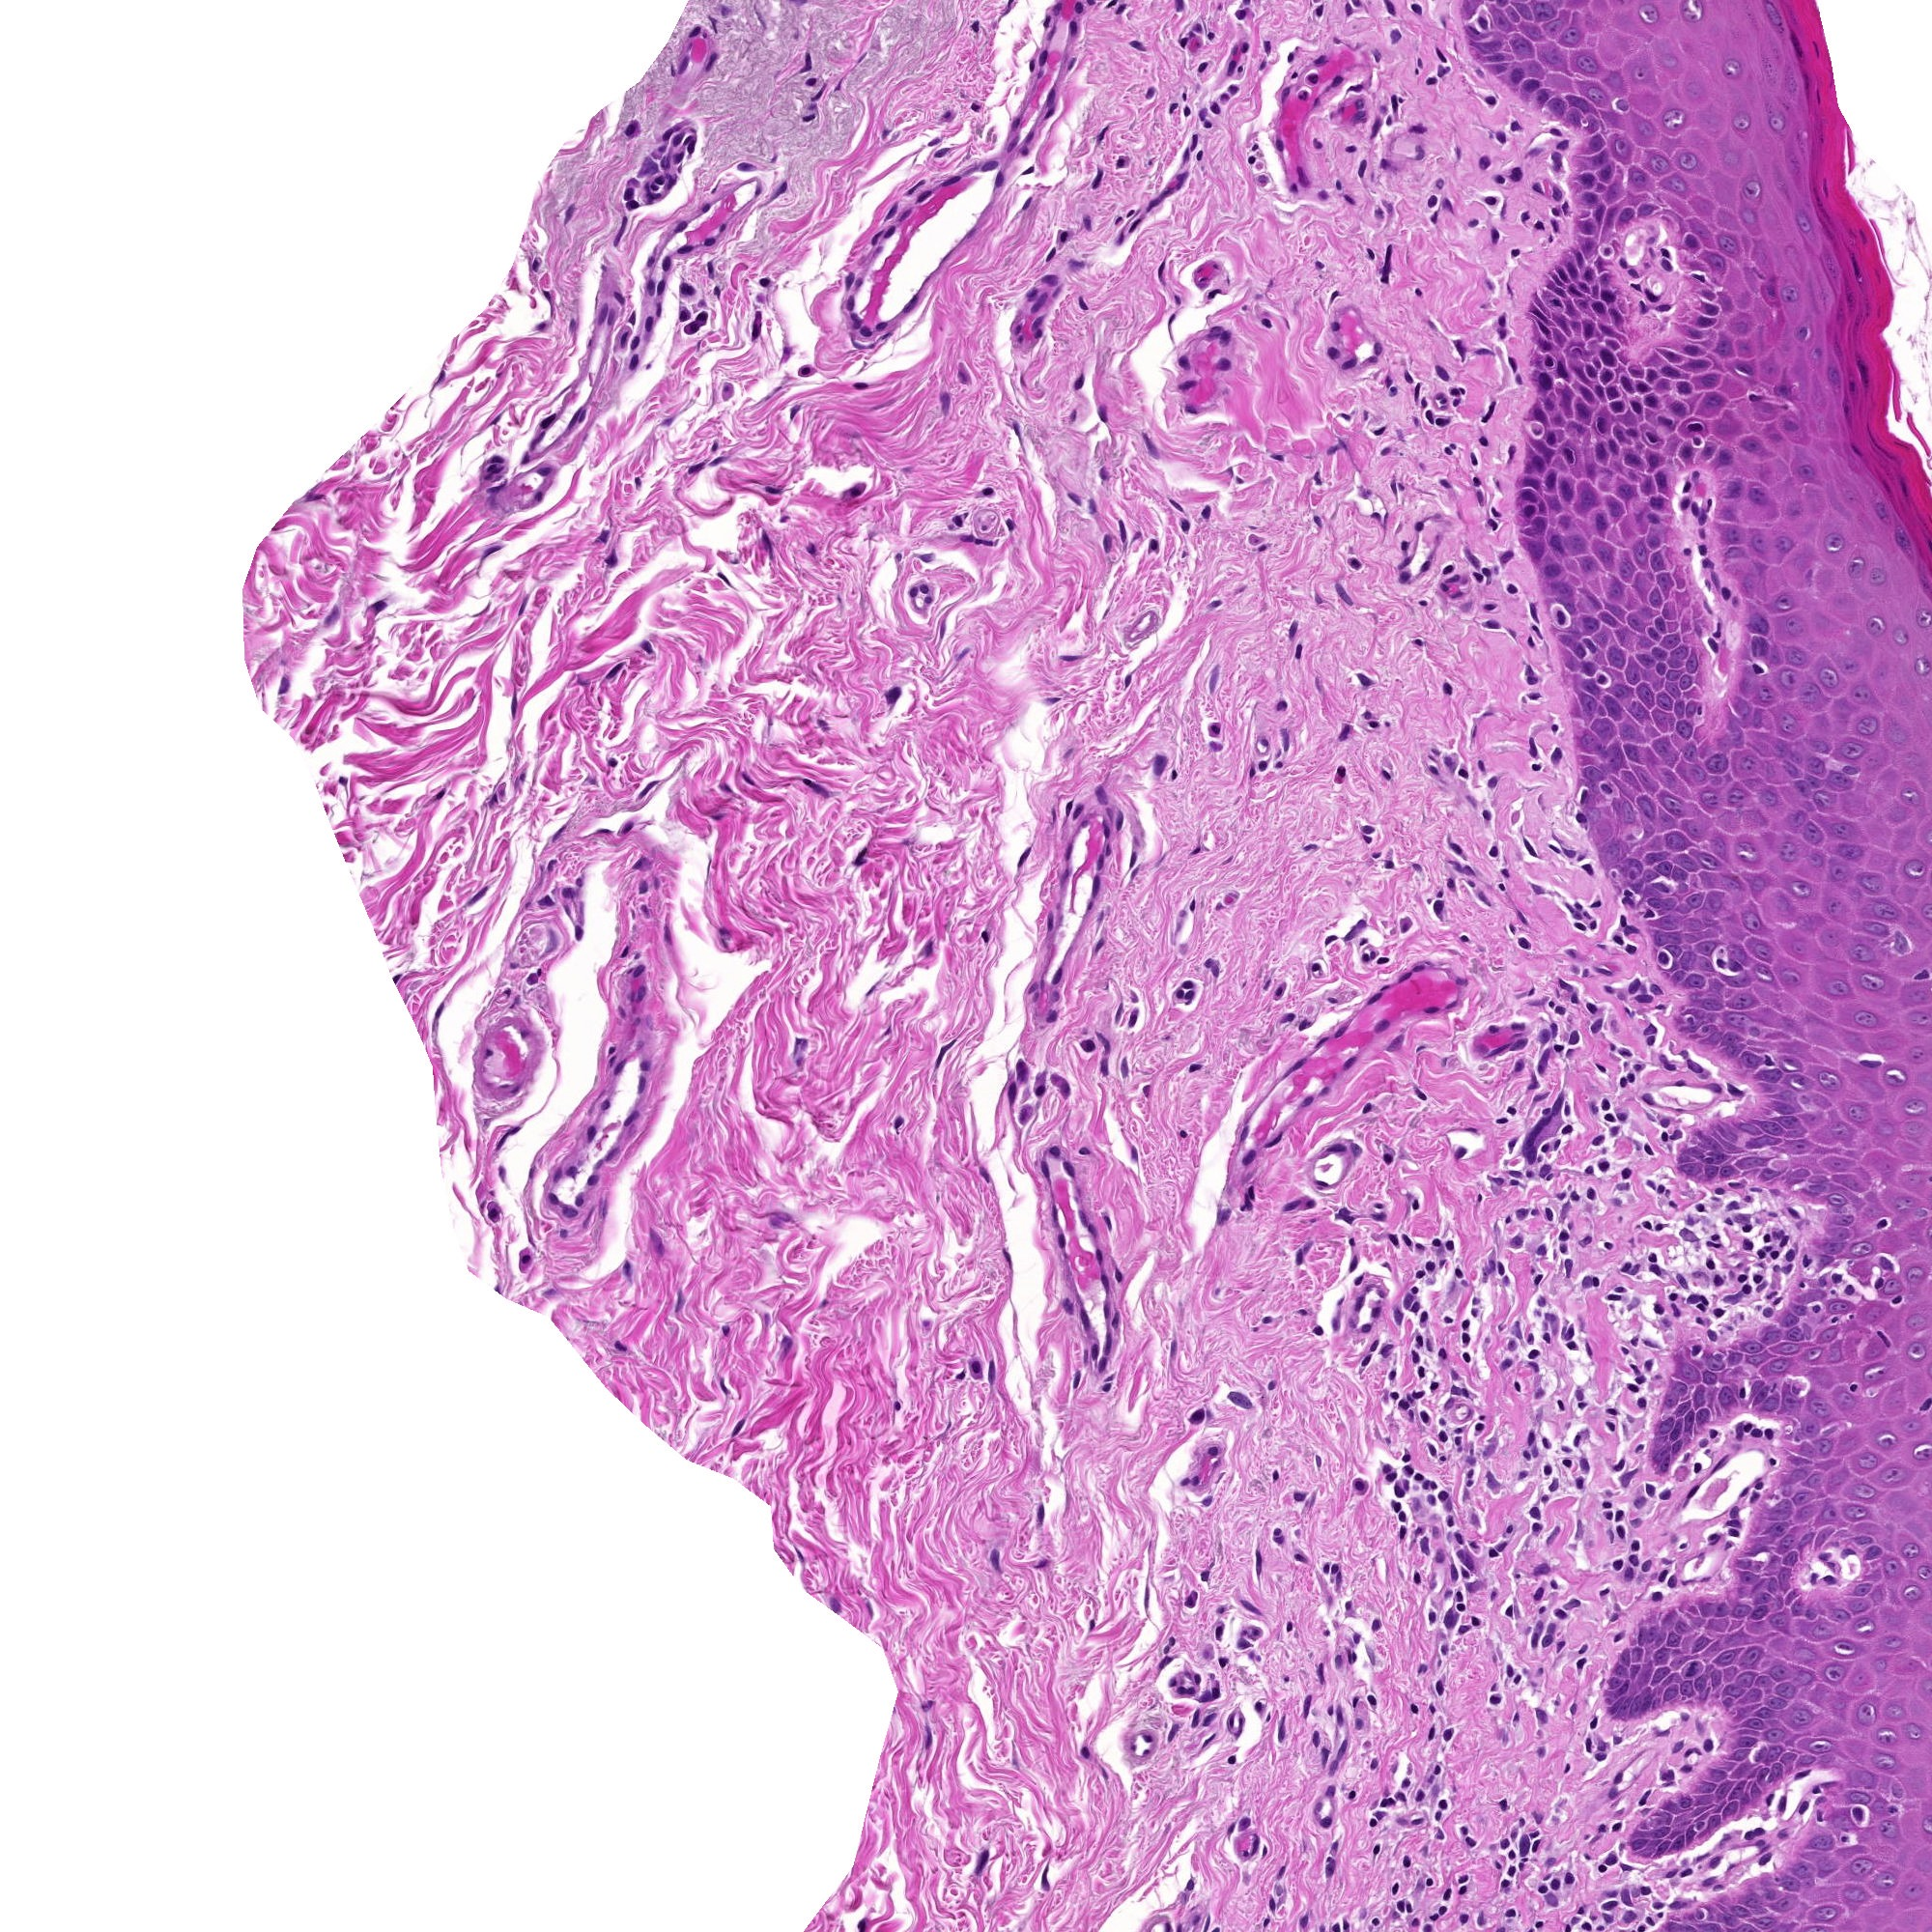epithelial: (1635, 384, 1667, 418), (1668, 412, 1702, 444), (1527, 352, 1559, 386), (1672, 361, 1704, 395), (1679, 1787, 1713, 1819), (267, 669, 299, 701), (389, 692, 421, 724), (633, 150, 665, 182), (695, 44, 727, 76), (929, 384, 961, 416), (536, 925, 568, 957), (508, 1016, 540, 1047), (911, 1723, 943, 1755), (1035, 908, 1067, 939), (1389, 909, 1421, 941), (1591, 341, 1622, 373), (1568, 395, 1599, 426), (1582, 292, 1614, 324), (1615, 442, 1647, 474), (1592, 280, 1624, 311), (1548, 258, 1580, 290), (1637, 444, 1668, 476), (1552, 437, 1583, 469), (1571, 258, 1603, 290), (1780, 27, 1812, 58), (1697, 386, 1729, 418), (1675, 226, 1707, 258), (1559, 274, 1591, 306), (1527, 435, 1559, 467), (1624, 356, 1656, 387), (1525, 395, 1557, 426), (1541, 272, 1573, 304), (1580, 131, 1612, 163), (1633, 364, 1665, 396), (1594, 368, 1626, 400), (1695, 373, 1727, 405), (1739, 382, 1771, 414), (1525, 303, 1557, 334), (1619, 403, 1651, 435), (1522, 292, 1553, 324), (1562, 334, 1594, 366), (1541, 403, 1573, 435), (1755, 274, 1787, 306), (1787, 34, 1819, 65), (1652, 389, 1684, 421), (1601, 359, 1633, 391), (1562, 354, 1594, 386), (1644, 462, 1675, 494), (1589, 260, 1621, 292), (1631, 464, 1663, 495), (1546, 290, 1578, 322), (1704, 290, 1736, 322), (1663, 352, 1695, 384), (1610, 396, 1642, 428), (1888, 464, 1920, 495), (1594, 198, 1626, 230), (1725, 310, 1757, 341), (1566, 386, 1598, 418), (1672, 143, 1704, 175), (1642, 145, 1674, 177), (1624, 55, 1656, 87), (1534, 85, 1566, 117), (1840, 433, 1872, 465), (1831, 395, 1863, 426), (1539, 414, 1571, 446), (1582, 311, 1614, 343), (1624, 449, 1656, 481), (1516, 16, 1548, 48), (1773, 280, 1805, 311), (1513, 495, 1545, 527), (1536, 554, 1568, 586), (1744, 610, 1776, 642), (1640, 487, 1672, 518), (1598, 692, 1629, 724), (1886, 524, 1918, 556), (1612, 881, 1644, 913), (1637, 502, 1668, 534), (1520, 534, 1552, 566), (1599, 573, 1631, 605), (1537, 488, 1569, 520), (1566, 801, 1598, 833), (1571, 685, 1603, 717), (1560, 527, 1592, 559), (1668, 711, 1700, 743), (1605, 674, 1637, 706), (1778, 495, 1810, 527), (1610, 552, 1642, 584), (1619, 605, 1651, 637), (1539, 545, 1571, 577), (1527, 490, 1559, 522), (1546, 573, 1578, 605), (1578, 586, 1610, 617), (1663, 826, 1695, 858), (1661, 858, 1693, 890), (1677, 885, 1709, 916), (1518, 522, 1550, 554), (1624, 534, 1656, 566), (1675, 648, 1707, 679), (1589, 713, 1621, 745), (1674, 736, 1706, 768), (1739, 908, 1771, 939), (1677, 814, 1709, 846), (1697, 886, 1729, 918), (1642, 862, 1674, 893), (1826, 692, 1858, 724), (1663, 637, 1695, 669), (1713, 497, 1744, 529), (1683, 1401, 1714, 1433), (1698, 1141, 1730, 1173), (1739, 1127, 1771, 1159), (1801, 1169, 1833, 1201), (1714, 1026, 1746, 1058), (1674, 1408, 1706, 1440), (1695, 1357, 1727, 1389), (1815, 1231, 1847, 1263), (1720, 964, 1752, 996), (1697, 1131, 1729, 1162), (1897, 1258, 1928, 1290), (1842, 1798, 1874, 1829), (1730, 1727, 1762, 1759), (1805, 1828, 1836, 1859), (1707, 1642, 1739, 1674), (1741, 1534, 1773, 1566), (1698, 1806, 1730, 1838), (1663, 1610, 1695, 1642), (1679, 1661, 1711, 1693), (1633, 1826, 1665, 1858), (1647, 1447, 1679, 1479), (1672, 1672, 1704, 1704), (1741, 1704, 1773, 1736), (1679, 1813, 1711, 1845), (1785, 1702, 1817, 1734), (1644, 1440, 1675, 1472), (1658, 1819, 1690, 1851), (1686, 1677, 1718, 1709), (1840, 1881, 1872, 1913), (1580, 368, 1614, 398), (1683, 366, 1716, 396), (1645, 870, 1675, 904), (294, 715, 324, 747), (640, 166, 671, 198), (653, 165, 683, 196), (667, 48, 697, 80), (711, 373, 741, 405), (479, 456, 510, 488), (757, 464, 787, 495), (632, 165, 662, 196), (842, 464, 872, 495), (625, 847, 656, 878), (708, 918, 740, 948), (479, 782, 510, 814), (771, 1327, 801, 1359), (663, 1286, 695, 1316), (603, 1051, 633, 1083), (642, 1230, 674, 1260), (623, 978, 653, 1010), (587, 1192, 617, 1224), (819, 1589, 849, 1621), (784, 1539, 814, 1571), (1012, 189, 1044, 219), (1085, 778, 1116, 809), (1198, 663, 1228, 695), (1021, 973, 1051, 1005), (1157, 1332, 1189, 1362), (1591, 361, 1622, 391), (1546, 356, 1578, 386), (1529, 364, 1559, 396), (1683, 349, 1713, 380), (1615, 370, 1647, 400), (1679, 412, 1711, 442), (1654, 356, 1686, 386), (1693, 364, 1725, 395), (1663, 393, 1693, 425), (1571, 165, 1603, 195), (1601, 391, 1633, 421), (1573, 356, 1603, 387), (1668, 372, 1698, 403), (1591, 375, 1621, 407), (1651, 405, 1681, 437), (1520, 446, 1550, 478), (1621, 391, 1652, 421), (1536, 421, 1566, 453), (1534, 464, 1566, 494), (1626, 372, 1658, 402), (1637, 423, 1668, 453), (1573, 313, 1603, 345), (1847, 356, 1879, 386), (1672, 435, 1702, 467), (1539, 287, 1569, 318), (1516, 69, 1546, 101), (1767, 375, 1799, 405), (1675, 334, 1707, 364), (1550, 380, 1580, 412), (1736, 428, 1766, 460), (1555, 253, 1587, 283), (1575, 182, 1605, 214), (1529, 331, 1560, 361), (1637, 359, 1668, 389), (1573, 379, 1603, 410), (1622, 163, 1654, 193), (1665, 384, 1697, 414), (1601, 375, 1631, 407), (1546, 308, 1578, 338), (1654, 341, 1686, 372), (1571, 211, 1601, 242), (1583, 143, 1614, 175), (1603, 421, 1633, 453), (1840, 253, 1872, 283), (1614, 418, 1644, 449), (1601, 299, 1631, 331), (1612, 363, 1642, 395), (1612, 198, 1642, 230), (1541, 90, 1573, 120), (1629, 195, 1661, 225), (1559, 103, 1591, 133), (1562, 241, 1592, 272), (1566, 403, 1596, 435), (1585, 196, 1615, 228), (1566, 267, 1598, 297), (1479, 34, 1509, 65), (1527, 81, 1559, 111), (1555, 294, 1585, 326), (1527, 320, 1557, 352), (1693, 435, 1723, 467), (1573, 290, 1605, 320), (1506, 28, 1536, 60), (1534, 361, 1566, 391), (1594, 331, 1624, 363), (1541, 349, 1571, 380), (1534, 384, 1564, 416), (1651, 368, 1681, 400), (1845, 219, 1877, 249), (1571, 230, 1603, 260), (1548, 464, 1580, 494), (1573, 48, 1603, 80), (1580, 301, 1610, 333), (1642, 375, 1672, 407), (1580, 189, 1612, 219), (1711, 412, 1743, 442), (1456, 16, 1488, 46), (1790, 455, 1821, 487), (1566, 364, 1598, 395), (1560, 412, 1592, 442), (1479, 5, 1511, 35), (1790, 65, 1822, 96), (1530, 444, 1562, 474), (1592, 414, 1624, 444), (1677, 318, 1709, 349), (1562, 94, 1592, 126), (1658, 364, 1688, 396), (1605, 131, 1637, 161), (1695, 414, 1727, 444), (1582, 343, 1612, 375), (1555, 391, 1587, 421), (1582, 276, 1614, 306), (1536, 42, 1568, 73), (1642, 396, 1672, 428), (1599, 64, 1629, 96), (1603, 403, 1633, 435), (1674, 421, 1704, 453), (1530, 311, 1560, 343), (1628, 113, 1658, 145), (1576, 173, 1608, 203), (1580, 115, 1610, 147), (1835, 380, 1865, 412), (1734, 173, 1764, 205), (1610, 407, 1640, 439), (1748, 389, 1778, 421), (1587, 391, 1617, 423), (1596, 188, 1626, 219), (1550, 269, 1582, 299), (1729, 333, 1760, 363), (1557, 264, 1589, 294), (1615, 462, 1647, 492), (1844, 347, 1875, 377), (1541, 437, 1573, 467), (1599, 290, 1631, 320), (1587, 180, 1617, 212), (1805, 195, 1836, 225), (1576, 405, 1606, 437), (1720, 464, 1750, 495), (1585, 506, 1615, 538), (1571, 653, 1603, 683), (1539, 527, 1571, 557), (1589, 540, 1621, 570), (1575, 607, 1605, 639), (1599, 640, 1631, 671), (1744, 623, 1775, 655), (1576, 632, 1606, 663), (1884, 927, 1914, 959), (1523, 510, 1555, 540), (1644, 609, 1675, 639), (1716, 520, 1748, 550), (1571, 485, 1603, 515), (1741, 483, 1773, 513), (1573, 548, 1603, 580), (1638, 616, 1668, 648), (1645, 731, 1677, 761), (1550, 506, 1580, 538), (1767, 584, 1798, 616), (1702, 748, 1732, 780), (1568, 633, 1598, 665), (1691, 932, 1723, 962), (1656, 625, 1686, 656), (1644, 639, 1674, 671), (1638, 842, 1668, 874), (1647, 564, 1679, 594), (1629, 791, 1661, 821), (1767, 529, 1798, 561), (1592, 603, 1624, 633), (1640, 584, 1672, 614), (1819, 524, 1851, 554), (1675, 694, 1706, 725), (1640, 648, 1672, 678), (1645, 943, 1677, 973), (1817, 890, 1847, 922), (1744, 633, 1776, 663), (1822, 763, 1854, 793), (1835, 837, 1867, 867), (1801, 748, 1831, 780), (1637, 525, 1668, 556), (1780, 640, 1812, 671), (1867, 495, 1897, 527), (1617, 658, 1647, 690), (1796, 816, 1826, 847), (1612, 717, 1644, 747), (1550, 479, 1582, 510), (1787, 771, 1819, 801), (1741, 527, 1771, 559), (1833, 649, 1863, 681), (1729, 830, 1760, 860), (1771, 835, 1801, 867), (1587, 517, 1617, 548), (1550, 582, 1580, 614), (1594, 736, 1624, 768), (1525, 499, 1555, 531), (1704, 828, 1734, 860), (1782, 801, 1812, 833), (1647, 888, 1677, 920), (1598, 832, 1628, 863), (1851, 865, 1882, 895), (1569, 725, 1599, 757), (1821, 858, 1852, 888), (1831, 757, 1861, 789), (1644, 922, 1674, 954), (1670, 846, 1702, 876), (1658, 929, 1688, 961), (1635, 876, 1665, 908), (1573, 768, 1603, 800), (1750, 936, 1780, 968), (1720, 715, 1750, 747), (1665, 692, 1697, 722), (1695, 846, 1727, 876), (1794, 678, 1826, 708), (1851, 711, 1882, 741), (1805, 729, 1835, 761), (1767, 732, 1798, 764), (1568, 490, 1598, 522), (1872, 897, 1904, 927), (1787, 870, 1817, 902), (1651, 600, 1681, 632), (1739, 702, 1771, 732), (1633, 623, 1663, 655), (1555, 605, 1587, 635), (1626, 504, 1658, 534), (1794, 908, 1826, 938), (1580, 545, 1612, 575), (1624, 570, 1654, 602), (1854, 1047, 1884, 1079), (1755, 1058, 1785, 1090), (1651, 1412, 1683, 1442), (1725, 1378, 1757, 1408), (1744, 1376, 1776, 1407), (1658, 1415, 1690, 1445), (1670, 1150, 1702, 1180), (1865, 1267, 1895, 1299), (1711, 1380, 1741, 1412), (1679, 964, 1709, 996), (1709, 1157, 1741, 1187), (1683, 1382, 1714, 1412), (1752, 1159, 1783, 1189), (1674, 1139, 1704, 1171), (1736, 1044, 1766, 1076), (1675, 1010, 1707, 1040), (1670, 1398, 1702, 1428), (1736, 1332, 1767, 1362), (1780, 1311, 1810, 1343), (1718, 1341, 1748, 1373), (1757, 1111, 1787, 1143), (1787, 1293, 1817, 1325), (1826, 1290, 1858, 1320), (1810, 1244, 1842, 1274), (1730, 1146, 1760, 1178), (1688, 1141, 1720, 1171), (1767, 1093, 1799, 1123), (1688, 1123, 1718, 1155), (1852, 1001, 1884, 1031), (1842, 1097, 1872, 1129), (1647, 1421, 1679, 1451), (1775, 1104, 1805, 1136), (1822, 973, 1854, 1003), (1785, 1063, 1815, 1095), (1801, 1277, 1833, 1307), (1743, 1054, 1775, 1085), (1681, 1138, 1713, 1168), (1697, 1021, 1727, 1053), (1888, 1185, 1920, 1215), (1812, 1318, 1842, 1350), (1663, 1828, 1695, 1858), (1668, 1787, 1700, 1817), (1645, 1833, 1677, 1863), (1629, 1688, 1661, 1718), (1748, 1739, 1778, 1771), (1622, 1826, 1652, 1858), (1605, 1672, 1637, 1702), (1603, 1691, 1635, 1721), (1762, 1513, 1792, 1545), (1644, 1817, 1675, 1847), (1654, 1790, 1686, 1821), (1748, 1760, 1780, 1790), (1713, 1794, 1744, 1824), (1651, 1805, 1681, 1836), (1702, 1759, 1734, 1789), (1603, 1656, 1633, 1688), (1773, 1867, 1803, 1898), (1608, 1649, 1640, 1679), (1789, 1596, 1821, 1626), (1730, 1560, 1762, 1591), (1652, 1603, 1684, 1633), (1706, 1775, 1737, 1805), (1691, 1592, 1721, 1624), (1645, 1658, 1675, 1690), (1762, 1656, 1792, 1688), (1656, 1677, 1686, 1709), (1845, 1575, 1877, 1605), (1729, 1782, 1759, 1813), (1813, 1497, 1844, 1529), (1693, 1773, 1723, 1805), (1681, 1900, 1713, 1930), (1727, 1895, 1757, 1927), (1706, 1798, 1736, 1829), (1739, 1775, 1771, 1805), (1714, 1681, 1744, 1713), (1831, 1629, 1861, 1661), (1783, 1483, 1815, 1513), (1698, 1663, 1730, 1693), (1875, 1794, 1907, 1824), (1725, 1594, 1755, 1626), (1757, 1879, 1787, 1911), (1617, 1638, 1647, 1670), (1877, 1552, 1907, 1583), (1874, 1813, 1904, 1845), (1897, 1582, 1928, 1612), (1769, 1675, 1799, 1707), (1840, 1497, 1872, 1527), (1782, 1589, 1812, 1621), (1679, 1645, 1709, 1677), (1762, 1605, 1792, 1637), (1767, 1888, 1799, 1918), (1729, 1550, 1759, 1582), (1718, 1780, 1748, 1812), (1872, 1750, 1902, 1782), (1599, 1667, 1629, 1698), (1810, 1852, 1840, 1884), (1773, 1741, 1803, 1773), (317, 602, 347, 632), (649, 147, 679, 177), (938, 165, 968, 195), (589, 299, 619, 329), (701, 800, 731, 830), (566, 667, 596, 697), (497, 1074, 527, 1104), (763, 1203, 793, 1233), (801, 1106, 832, 1136), (621, 1005, 651, 1035), (855, 1592, 885, 1622), (1054, 48, 1085, 78), (1049, 860, 1079, 890), (1585, 409, 1615, 439), (1587, 437, 1617, 467), (1709, 442, 1739, 472), (1534, 347, 1564, 377), (1730, 352, 1760, 382), (1500, 58, 1530, 88), (1591, 157, 1621, 188), (1688, 306, 1718, 336), (1695, 295, 1725, 326), (1709, 331, 1739, 361), (1598, 432, 1628, 462), (1560, 87, 1591, 117), (1591, 315, 1621, 345), (1836, 372, 1867, 402), (1575, 455, 1605, 485), (1787, 317, 1817, 347), (1700, 246, 1730, 276), (1545, 322, 1575, 352), (1775, 410, 1805, 441), (1516, 464, 1546, 494), (1596, 177, 1626, 207), (1612, 384, 1642, 414), (1559, 19, 1589, 50), (1667, 336, 1697, 366), (1507, 64, 1537, 94), (1819, 359, 1849, 389), (1463, 28, 1493, 58), (1566, 285, 1596, 315), (1541, 389, 1571, 419), (1546, 281, 1576, 311), (1803, 182, 1833, 212), (1851, 364, 1881, 395), (1559, 310, 1589, 340), (1713, 228, 1743, 258), (1693, 281, 1723, 311), (1614, 354, 1644, 384), (1812, 207, 1842, 237), (1532, 455, 1562, 485), (1656, 402, 1686, 432), (1598, 103, 1628, 133), (1759, 421, 1789, 451), (1484, 51, 1514, 81), (1513, 481, 1543, 511), (1741, 655, 1771, 685), (1599, 492, 1629, 522), (1580, 669, 1610, 699), (1649, 853, 1679, 883), (1642, 545, 1672, 575), (1631, 644, 1661, 674), (1615, 736, 1645, 766), (1840, 552, 1870, 582), (1592, 773, 1622, 803), (1569, 782, 1599, 812), (1695, 786, 1725, 816), (1617, 876, 1647, 906), (1601, 743, 1631, 773), (1576, 759, 1606, 789), (1743, 867, 1773, 897), (1720, 782, 1750, 812), (1555, 623, 1585, 653), (1624, 697, 1654, 727), (1718, 865, 1748, 895), (1631, 679, 1661, 709), (1559, 630, 1589, 660), (1615, 855, 1645, 885), (1858, 612, 1888, 642), (1845, 678, 1875, 708), (1863, 561, 1893, 591), (1721, 941, 1752, 971), (1608, 619, 1638, 649), (1773, 665, 1803, 695), (1826, 814, 1856, 844), (1658, 793, 1688, 823), (1750, 679, 1780, 709), (1605, 791, 1635, 821), (1580, 656, 1610, 686), (1868, 1323, 1898, 1353), (1872, 1249, 1902, 1279), (1752, 1046, 1782, 1076), (1729, 987, 1759, 1017), (1695, 1157, 1725, 1187), (1881, 1065, 1911, 1095), (1776, 1304, 1806, 1334), (1829, 1205, 1859, 1235), (1697, 989, 1727, 1019), (1782, 1161, 1812, 1191), (1665, 1373, 1695, 1403), (1698, 1346, 1729, 1376), (1741, 1146, 1771, 1177), (1792, 1414, 1822, 1444), (1730, 1111, 1760, 1141), (1815, 1069, 1845, 1099), (1783, 1129, 1813, 1159), (1654, 1385, 1684, 1415), (1900, 1332, 1930, 1362), (1713, 1118, 1743, 1148), (1667, 962, 1697, 993), (1675, 1654, 1706, 1684), (1744, 1596, 1775, 1626), (1858, 1537, 1888, 1568), (1674, 1821, 1704, 1851), (1629, 1621, 1660, 1651), (1706, 1594, 1736, 1624), (1645, 1640, 1675, 1670), (1748, 1585, 1778, 1615), (1737, 1640, 1767, 1670), (1821, 1656, 1851, 1686), (1686, 1668, 1716, 1698), (1725, 1775, 1755, 1805), (1617, 1690, 1647, 1720), (1766, 1497, 1796, 1527), (1690, 1812, 1720, 1842), (1759, 1759, 1789, 1789), (1849, 1697, 1879, 1727), (1736, 1884, 1766, 1914), (1727, 1755, 1757, 1785), (1785, 1854, 1815, 1884), (1658, 1624, 1688, 1654), (1824, 1599, 1854, 1629), (1881, 1458, 1911, 1488), (1603, 1683, 1633, 1713), (1872, 1725, 1902, 1755), (1842, 1782, 1872, 1812), (1727, 1736, 1757, 1766), (1897, 1537, 1927, 1568), (1849, 1605, 1879, 1635), (1760, 1504, 1790, 1534), (1748, 1698, 1778, 1729), (1847, 1525, 1877, 1555), (1872, 1863, 1902, 1893), (653, 138, 685, 166), (1527, 410, 1555, 442), (1755, 780, 1783, 812), (1886, 621, 1918, 649), (1748, 1387, 1780, 1415), (1776, 962, 1805, 994), (1776, 1541, 1805, 1573), (1713, 1902, 1744, 1930), (663, 142, 692, 172), (506, 763, 534, 793), (1003, 317, 1033, 345), (1481, 44, 1511, 73), (1619, 433, 1647, 464), (1573, 274, 1603, 303), (1640, 886, 1668, 916), (1612, 479, 1642, 508), (1755, 1320, 1783, 1350), (1776, 1380, 1805, 1410), (1684, 1629, 1714, 1658)
fibroblast and endothelial: (586, 520, 619, 552), (1196, 278, 1230, 310), (1177, 18, 1210, 50), (1405, 1353, 1437, 1387), (1353, 1272, 1387, 1304), (1522, 1023, 1555, 1054), (1674, 1300, 1707, 1332), (1447, 1813, 1479, 1847), (1500, 1851, 1534, 1882), (423, 994, 455, 1026), (740, 313, 771, 345), (616, 188, 648, 219), (649, 248, 681, 280), (849, 317, 881, 349), (658, 120, 690, 152), (844, 370, 876, 402), (667, 218, 699, 249), (699, 433, 731, 465), (692, 228, 724, 260), (669, 134, 701, 166), (862, 221, 893, 253), (701, 442, 732, 474), (931, 99, 962, 131), (637, 274, 669, 306), (653, 297, 685, 329), (540, 403, 571, 435), (616, 336, 648, 368), (681, 317, 713, 349), (610, 303, 642, 334), (598, 814, 630, 846), (632, 771, 663, 803), (628, 870, 660, 902), (911, 932, 943, 964), (628, 885, 660, 916), (909, 541, 941, 573), (709, 771, 741, 803), (506, 591, 538, 623), (488, 1122, 520, 1154), (614, 1104, 646, 1136), (518, 961, 550, 993), (709, 1315, 741, 1346), (589, 1088, 621, 1120), (550, 1207, 582, 1238), (1047, 219, 1079, 251), (1208, 349, 1240, 380), (1185, 50, 1217, 81), (1169, 359, 1201, 391), (1175, 393, 1207, 425), (1067, 288, 1099, 320), (1164, 163, 1196, 195), (1304, 44, 1336, 76), (1168, 345, 1200, 377), (1419, 202, 1451, 234), (1161, 92, 1192, 124), (1251, 306, 1283, 338), (1320, 310, 1352, 341), (1415, 184, 1447, 216), (1263, 129, 1295, 161), (1359, 338, 1391, 370), (1185, 96, 1217, 127), (1343, 97, 1375, 129), (1288, 80, 1320, 111), (1171, 380, 1203, 412), (1014, 120, 1046, 152), (1327, 65, 1359, 97), (1008, 133, 1040, 165), (1201, 317, 1233, 349), (1348, 343, 1380, 375), (1368, 195, 1399, 226), (1016, 48, 1047, 80), (1023, 297, 1054, 329), (1000, 412, 1031, 444), (1231, 50, 1263, 81), (1355, 242, 1387, 274), (1322, 432, 1353, 464), (1031, 30, 1063, 62), (1210, 78, 1242, 110), (1261, 34, 1293, 65), (1200, 50, 1231, 81), (1361, 39, 1392, 71), (1341, 143, 1373, 175), (1161, 285, 1192, 317), (1322, 922, 1353, 954), (1007, 840, 1039, 872), (1138, 529, 1169, 561), (1389, 531, 1421, 563), (1339, 547, 1371, 579), (1329, 717, 1361, 748), (1421, 890, 1453, 922), (1327, 579, 1359, 610), (1343, 911, 1375, 943), (1247, 738, 1279, 770), (1277, 617, 1309, 649), (1373, 847, 1405, 879), (1085, 846, 1116, 878), (1361, 499, 1392, 531), (1058, 481, 1090, 513), (1053, 835, 1085, 867), (1263, 748, 1295, 780), (1247, 725, 1279, 757), (1100, 520, 1132, 552), (1065, 800, 1097, 832), (1072, 1030, 1104, 1062), (1023, 1074, 1054, 1106), (1410, 1253, 1442, 1284), (975, 1355, 1007, 1387), (1371, 1141, 1403, 1173), (1293, 1187, 1325, 1219), (1224, 1384, 1256, 1415), (1382, 1299, 1414, 1330), (1233, 1141, 1265, 1173), (1062, 1362, 1093, 1394), (1332, 1132, 1364, 1164), (1288, 1008, 1320, 1040), (1083, 1332, 1115, 1364), (1403, 1309, 1435, 1341), (1364, 1200, 1396, 1231), (1290, 1085, 1322, 1116), (1306, 1024, 1338, 1056), (1392, 1300, 1424, 1332), (1380, 1026, 1412, 1058), (1118, 1138, 1150, 1169), (1366, 977, 1398, 1008), (1014, 1062, 1046, 1093), (1403, 1461, 1435, 1493), (1345, 1468, 1376, 1500), (1242, 1829, 1274, 1861), (1024, 1497, 1056, 1529), (1387, 1516, 1419, 1548), (1361, 1833, 1392, 1865), (1415, 1601, 1447, 1633), (1233, 1835, 1265, 1867), (1332, 1591, 1364, 1622), (1415, 1704, 1447, 1736), (1076, 1608, 1108, 1640), (1191, 1484, 1223, 1516), (1214, 1812, 1246, 1844), (1178, 1691, 1210, 1723), (1415, 1534, 1447, 1566), (1339, 1622, 1371, 1654), (1205, 1592, 1237, 1624), (1251, 1898, 1283, 1930), (1185, 1684, 1217, 1716), (1116, 1730, 1148, 1762), (1131, 1734, 1162, 1766), (1198, 1437, 1230, 1468), (1357, 1817, 1389, 1849), (1368, 1750, 1399, 1782), (1635, 280, 1667, 311), (1440, 377, 1472, 409), (1474, 85, 1506, 117), (1444, 331, 1476, 363), (1484, 120, 1516, 152), (1644, 288, 1675, 320), (1474, 393, 1506, 425), (1463, 433, 1495, 465), (1514, 833, 1546, 865), (1507, 927, 1539, 959), (1444, 754, 1476, 786), (1490, 540, 1522, 571), (1571, 853, 1603, 885), (1539, 720, 1571, 752), (1470, 800, 1502, 832), (1661, 488, 1693, 520), (1486, 869, 1518, 901), (1522, 874, 1553, 906), (1557, 938, 1589, 970), (1518, 607, 1550, 639), (1445, 582, 1477, 614), (1686, 1288, 1718, 1320), (1619, 970, 1651, 1001), (1592, 1100, 1624, 1132), (1483, 1253, 1514, 1284), (1610, 1157, 1642, 1189), (1525, 1233, 1557, 1265), (1624, 1355, 1656, 1387), (1500, 1224, 1532, 1256), (1660, 1295, 1691, 1327), (1444, 1138, 1476, 1169), (1522, 1115, 1553, 1146), (1530, 1019, 1562, 1051), (1704, 1175, 1736, 1207), (1500, 1369, 1532, 1401), (1698, 1224, 1730, 1256), (1575, 1224, 1606, 1256), (1442, 1419, 1474, 1451), (1525, 1136, 1557, 1168), (1527, 1108, 1559, 1139), (1440, 1366, 1472, 1398), (1550, 1100, 1582, 1132), (1580, 1090, 1612, 1122), (1534, 1307, 1566, 1339), (1658, 1118, 1690, 1150), (1674, 1047, 1706, 1079), (1684, 1304, 1716, 1336), (1725, 1184, 1757, 1215), (1619, 1054, 1651, 1086), (1527, 1030, 1559, 1062), (1757, 1226, 1789, 1258), (1548, 1192, 1580, 1224), (1493, 1201, 1525, 1233), (1624, 1325, 1656, 1357), (1679, 1261, 1711, 1293), (1520, 1053, 1552, 1085), (1552, 1231, 1583, 1263), (1440, 1306, 1472, 1338), (1603, 1274, 1635, 1306), (1675, 1476, 1707, 1507), (1495, 1856, 1527, 1888), (1530, 1872, 1562, 1904), (1530, 1624, 1562, 1656), (1481, 1534, 1513, 1566), (1445, 1872, 1477, 1904), (1629, 1874, 1661, 1905), (1495, 1897, 1527, 1928), (1619, 1529, 1651, 1560), (1578, 1706, 1610, 1737), (1520, 1511, 1552, 1543), (1603, 1499, 1635, 1530), (1571, 1727, 1603, 1759), (1447, 1612, 1479, 1644), (1453, 1824, 1484, 1856), (1787, 1790, 1819, 1822), (1444, 1522, 1476, 1553), (1748, 1836, 1780, 1868), (1456, 1571, 1488, 1603), (1555, 1591, 1587, 1622), (1525, 1700, 1557, 1732), (1447, 1555, 1479, 1587), (1525, 1560, 1557, 1592), (1614, 1900, 1645, 1932), (1674, 1736, 1706, 1767), (1534, 1614, 1566, 1645), (1504, 1821, 1536, 1852), (1534, 1881, 1566, 1913), (1635, 1898, 1667, 1930), (1626, 1479, 1658, 1511), (1493, 1513, 1525, 1545), (1610, 1865, 1642, 1897), (1513, 1438, 1545, 1470), (1654, 1859, 1686, 1891), (1587, 1727, 1619, 1759), (1557, 1693, 1589, 1725), (1465, 1534, 1497, 1566), (1550, 1752, 1582, 1783), (1693, 1865, 1725, 1897), (1612, 1545, 1644, 1576), (1548, 1465, 1580, 1497), (1621, 1506, 1652, 1537), (1541, 1610, 1573, 1642), (1525, 1488, 1557, 1520), (1578, 1716, 1610, 1748), (1603, 1897, 1635, 1928), (862, 313, 895, 343), (619, 175, 653, 205), (1410, 387, 1440, 421), (1092, 1276, 1122, 1309), (1054, 1134, 1088, 1164), (1622, 1364, 1652, 1398), (1681, 1054, 1714, 1085), (1744, 1269, 1778, 1299), (1612, 1881, 1642, 1914), (423, 780, 455, 810), (462, 879, 492, 911), (327, 764, 357, 796), (380, 962, 412, 993), (529, 407, 561, 437), (667, 299, 699, 329), (671, 126, 702, 156), (646, 271, 678, 301), (676, 306, 706, 338), (612, 179, 644, 209), (617, 347, 649, 377), (671, 234, 701, 265), (748, 267, 780, 297), (764, 173, 796, 203), (925, 138, 957, 168), (633, 182, 665, 212), (897, 287, 927, 318), (520, 425, 550, 456), (835, 287, 865, 318), (789, 356, 821, 386), (561, 402, 591, 433), (679, 16, 711, 46), (616, 113, 648, 143), (621, 304, 653, 334), (842, 308, 874, 338), (908, 177, 938, 209), (796, 65, 826, 97), (729, 150, 759, 182), (511, 442, 541, 474), (518, 249, 550, 280), (778, 396, 810, 426), (603, 281, 635, 311), (525, 310, 556, 341), (702, 274, 732, 306), (801, 80, 832, 111), (690, 191, 720, 223), (479, 446, 511, 476), (635, 246, 667, 276), (794, 101, 824, 133), (531, 455, 561, 487), (897, 173, 927, 205), (922, 129, 952, 161), (614, 311, 644, 343), (518, 435, 548, 467), (697, 7, 729, 37), (741, 175, 773, 205), (525, 414, 556, 446), (741, 306, 773, 336), (556, 410, 586, 442), (648, 258, 679, 288), (708, 212, 738, 244), (651, 405, 683, 435), (603, 221, 633, 253), (870, 117, 901, 149), (878, 679, 908, 711), (901, 575, 932, 605), (794, 768, 824, 800), (594, 545, 626, 575), (844, 842, 876, 872), (612, 812, 642, 844), (531, 886, 563, 916), (554, 876, 584, 908), (708, 561, 738, 593), (596, 747, 626, 778), (911, 575, 941, 607), (796, 534, 828, 564), (731, 763, 763, 793), (479, 533, 510, 564), (541, 817, 573, 847), (653, 918, 683, 950), (619, 938, 649, 970), (770, 502, 800, 534), (557, 1192, 587, 1224), (497, 1115, 527, 1146), (556, 1155, 587, 1185), (538, 1184, 570, 1214), (577, 1164, 607, 1196), (603, 1332, 635, 1362), (563, 1185, 593, 1217), (628, 1054, 660, 1085), (626, 1067, 656, 1099), (479, 1196, 510, 1228), (575, 1116, 605, 1148), (547, 1217, 579, 1247), (784, 1028, 816, 1058), (543, 1159, 575, 1189), (881, 1389, 911, 1421), (492, 978, 524, 1008), (934, 1030, 964, 1062), (708, 1371, 740, 1401), (596, 1035, 626, 1067), (855, 975, 886, 1005), (943, 1359, 973, 1391), (487, 1157, 517, 1189), (547, 1191, 577, 1223), (1371, 246, 1403, 276), (1369, 257, 1401, 287), (1339, 73, 1371, 103), (1056, 12, 1088, 42), (1380, 87, 1412, 117), (1035, 237, 1065, 269), (1210, 320, 1240, 352), (1346, 152, 1378, 182), (1215, 50, 1246, 81), (1063, 366, 1095, 396), (1299, 62, 1329, 94), (1228, 30, 1258, 62), (1086, 119, 1116, 150), (984, 163, 1014, 195), (971, 150, 1003, 180), (1392, 363, 1424, 393), (1026, 41, 1058, 71), (1215, 69, 1247, 99), (1401, 113, 1433, 143), (1138, 188, 1169, 218), (1035, 264, 1065, 295), (1180, 140, 1212, 170), (1173, 96, 1203, 127), (1187, 18, 1219, 48), (1364, 416, 1394, 448), (1253, 30, 1284, 60), (1152, 175, 1182, 207), (1021, 281, 1051, 313), (1380, 19, 1410, 51), (1088, 398, 1118, 430), (1191, 106, 1221, 138), (1031, 5, 1062, 37), (1035, 81, 1065, 113), (1371, 149, 1401, 180), (1373, 235, 1403, 267), (1263, 441, 1293, 472), (1286, 161, 1316, 193), (1014, 154, 1044, 186), (1001, 108, 1033, 138), (1276, 41, 1307, 71), (1134, 76, 1164, 108), (1371, 106, 1401, 138), (1318, 280, 1350, 310), (1106, 221, 1136, 253), (1033, 96, 1065, 126), (1171, 138, 1201, 170), (1237, 32, 1269, 62), (1033, 249, 1063, 281), (1116, 200, 1148, 230), (1403, 276, 1433, 308), (1343, 87, 1373, 119), (1279, 58, 1309, 90), (980, 152, 1010, 184), (1269, 78, 1300, 108), (1246, 165, 1277, 195), (1109, 212, 1139, 244), (1323, 170, 1353, 202), (1088, 458, 1118, 490), (1338, 400, 1369, 430), (1184, 27, 1215, 57), (1169, 149, 1200, 180), (1302, 129, 1332, 161), (1185, 267, 1215, 299), (1104, 203, 1136, 234), (1307, 179, 1339, 209), (1155, 303, 1185, 334), (1295, 71, 1325, 103), (1422, 39, 1453, 71), (1146, 182, 1178, 212), (1159, 170, 1191, 200), (1058, 400, 1088, 432), (1336, 96, 1366, 127), (1185, 37, 1215, 69), (1373, 96, 1405, 126), (1247, 44, 1279, 74), (1405, 382, 1437, 412), (1369, 435, 1401, 465), (1422, 356, 1453, 387), (1352, 941, 1382, 973), (1079, 869, 1111, 899), (966, 525, 998, 556), (1410, 550, 1442, 580), (1058, 793, 1090, 823), (1191, 497, 1221, 529), (1200, 713, 1231, 743), (1283, 635, 1315, 665), (1389, 554, 1419, 586), (1054, 642, 1085, 674), (1366, 846, 1398, 876), (1419, 754, 1449, 786), (1359, 708, 1391, 738), (1108, 513, 1138, 545), (1267, 688, 1297, 720), (1159, 759, 1191, 789), (1391, 545, 1422, 575), (1090, 527, 1122, 557), (1102, 805, 1132, 837), (1077, 490, 1108, 522), (1352, 701, 1384, 731), (1302, 504, 1332, 536), (1085, 929, 1115, 961), (1237, 757, 1269, 787), (1090, 816, 1122, 846), (1200, 589, 1231, 619), (1111, 665, 1143, 695), (1161, 488, 1191, 520), (1348, 927, 1378, 959), (1088, 839, 1120, 869), (1293, 832, 1325, 862), (1115, 520, 1146, 550), (1246, 529, 1276, 561), (1398, 559, 1428, 591), (959, 522, 989, 554), (1194, 943, 1226, 973), (1074, 890, 1106, 920), (1070, 487, 1102, 517), (1300, 941, 1330, 973), (1391, 1387, 1421, 1419), (1387, 1224, 1419, 1254), (961, 1350, 991, 1382), (996, 1074, 1026, 1106), (1359, 982, 1391, 1012), (1007, 1053, 1037, 1085), (1171, 980, 1203, 1010), (1182, 1401, 1214, 1431), (1322, 1132, 1352, 1164), (1028, 1154, 1060, 1184), (1407, 1325, 1438, 1355), (1265, 975, 1295, 1007), (1384, 1382, 1414, 1414), (1330, 1200, 1361, 1231), (1102, 1261, 1134, 1292), (1088, 1051, 1118, 1083), (1054, 1152, 1085, 1184), (1178, 1053, 1210, 1083), (1090, 1263, 1120, 1295), (1049, 1072, 1079, 1104), (1274, 1001, 1306, 1031), (1258, 1125, 1290, 1155), (1279, 1007, 1311, 1037), (1035, 1001, 1067, 1031), (1338, 1249, 1369, 1279), (1415, 994, 1447, 1024), (1350, 1311, 1380, 1343), (1109, 1000, 1139, 1031), (1378, 1359, 1408, 1391), (1276, 1191, 1307, 1221), (1366, 1332, 1398, 1362), (1398, 1288, 1428, 1320), (1359, 1297, 1389, 1329), (1086, 1348, 1118, 1378), (1042, 961, 1072, 993), (1102, 1053, 1132, 1085), (1168, 1118, 1198, 1150), (1284, 1240, 1315, 1272), (1010, 1099, 1042, 1129), (1334, 1046, 1364, 1077), (1399, 1189, 1430, 1221), (1302, 1315, 1332, 1346), (1092, 1205, 1122, 1237), (1231, 1187, 1261, 1219), (1306, 1169, 1338, 1200), (1389, 961, 1421, 991), (1283, 1049, 1315, 1079), (1090, 1028, 1122, 1058), (1072, 1207, 1102, 1238), (1343, 1263, 1373, 1295), (1085, 1240, 1116, 1270), (1207, 1200, 1237, 1231), (1251, 1304, 1281, 1336), (1378, 1373, 1410, 1403), (1403, 1258, 1435, 1288), (1320, 1307, 1350, 1339), (1099, 1304, 1129, 1336), (1330, 1309, 1362, 1339), (1256, 971, 1288, 1001), (1256, 1369, 1286, 1401), (1392, 1396, 1424, 1426), (1003, 1062, 1033, 1093), (1359, 1329, 1389, 1361), (1338, 1224, 1368, 1256), (1090, 1341, 1122, 1371), (1039, 980, 1070, 1010), (1228, 1116, 1258, 1148), (1039, 1198, 1069, 1230), (1076, 1339, 1108, 1369), (1077, 1214, 1109, 1244), (1131, 1074, 1161, 1106), (1063, 1295, 1093, 1327), (1401, 1269, 1431, 1300), (1414, 1330, 1444, 1362), (1092, 1359, 1122, 1391), (1042, 1065, 1074, 1095), (1410, 1230, 1440, 1261), (1030, 1065, 1062, 1095), (1341, 1299, 1371, 1330), (1368, 1295, 1399, 1325), (1373, 1458, 1405, 1488), (1382, 1493, 1414, 1523), (1180, 1663, 1210, 1695), (1414, 1468, 1444, 1500), (1203, 1615, 1235, 1645), (1194, 1679, 1226, 1709), (1399, 1782, 1431, 1812), (1318, 1553, 1350, 1583), (1392, 1454, 1424, 1484), (968, 1844, 998, 1875), (1242, 1545, 1274, 1575), (1359, 1805, 1391, 1835), (1226, 1808, 1256, 1840), (1336, 1640, 1366, 1672), (1357, 1684, 1387, 1716), (1215, 1744, 1246, 1776), (1030, 1865, 1062, 1895), (1069, 1737, 1100, 1767), (1311, 1805, 1341, 1836), (1389, 1890, 1419, 1921), (1398, 1693, 1430, 1723), (1185, 1704, 1215, 1736), (1131, 1723, 1162, 1753), (1189, 1560, 1221, 1591), (1338, 1778, 1368, 1810), (1237, 1619, 1269, 1649), (1309, 1737, 1339, 1769), (1265, 1716, 1297, 1746), (1401, 1562, 1433, 1592), (1161, 1667, 1191, 1698), (1315, 1852, 1346, 1882), (1387, 1500, 1417, 1532), (1217, 1707, 1247, 1739), (1415, 1718, 1447, 1748), (1408, 1695, 1440, 1725), (1412, 1867, 1444, 1897), (1207, 1645, 1238, 1675), (1157, 1718, 1187, 1750), (1263, 1520, 1293, 1552), (1226, 1628, 1258, 1658), (1387, 1465, 1417, 1497), (1315, 1776, 1346, 1806), (1391, 1442, 1422, 1472), (1299, 1723, 1330, 1753), (1194, 1702, 1226, 1732), (1401, 1806, 1433, 1836), (1274, 1612, 1306, 1642), (1154, 1631, 1185, 1661), (1345, 1707, 1376, 1737), (1419, 1900, 1451, 1930), (1240, 1605, 1270, 1637), (1318, 1750, 1350, 1780), (1419, 1755, 1451, 1785), (1407, 1652, 1437, 1684), (1026, 1548, 1058, 1578), (1392, 1495, 1424, 1525), (1403, 1514, 1433, 1546), (1398, 1488, 1430, 1518), (1171, 1665, 1201, 1697), (1265, 1856, 1297, 1886), (1214, 1619, 1246, 1649), (1224, 1711, 1256, 1741), (1392, 1472, 1422, 1504), (1422, 1799, 1453, 1831), (1286, 1902, 1318, 1932), (1325, 1778, 1357, 1808), (1307, 1729, 1338, 1760), (1470, 402, 1502, 432), (1499, 159, 1530, 189), (1631, 288, 1663, 318), (1649, 237, 1679, 269), (1486, 306, 1516, 338), (1541, 143, 1571, 175), (1476, 184, 1506, 216), (1456, 334, 1488, 364), (1539, 205, 1569, 237), (1499, 110, 1529, 142), (1468, 145, 1499, 177), (1546, 129, 1578, 159), (1541, 119, 1571, 150), (1615, 257, 1647, 287), (1456, 444, 1488, 474), (1543, 195, 1573, 226), (1520, 172, 1550, 203), (1467, 336, 1499, 366), (1456, 207, 1488, 237), (1479, 172, 1509, 203), (1675, 464, 1706, 495), (1497, 435, 1527, 467), (1486, 317, 1518, 347), (1440, 833, 1472, 863), (1467, 559, 1497, 591), (1582, 886, 1612, 918), (1477, 835, 1507, 867), (1518, 732, 1548, 764), (1672, 490, 1704, 520), (1516, 660, 1546, 692), (1520, 750, 1550, 782), (1560, 893, 1591, 925), (1518, 594, 1548, 626), (1697, 630, 1729, 660), (1518, 679, 1548, 711), (1474, 591, 1506, 621), (1690, 545, 1720, 577), (1552, 837, 1583, 867), (1447, 922, 1479, 952), (1479, 497, 1509, 529), (1504, 906, 1534, 938), (1702, 617, 1734, 648), (1488, 860, 1520, 890), (1465, 750, 1497, 780), (1437, 867, 1467, 899), (1543, 833, 1573, 865), (1442, 575, 1472, 607), (1704, 570, 1736, 600), (1438, 748, 1468, 780), (1615, 916, 1645, 948), (1697, 563, 1727, 594), (1525, 738, 1557, 768), (1736, 1415, 1767, 1445), (1746, 1417, 1778, 1447), (1626, 978, 1656, 1010), (1640, 1254, 1672, 1284), (1449, 1322, 1479, 1353), (1702, 1263, 1732, 1295), (1514, 1139, 1546, 1169), (1750, 1237, 1780, 1269), (1591, 1088, 1621, 1120), (1767, 1221, 1798, 1253), (1637, 1242, 1667, 1274), (1566, 1180, 1598, 1210), (1605, 1100, 1637, 1131), (1575, 1265, 1605, 1297), (1727, 1414, 1757, 1445), (1642, 1292, 1674, 1322), (1545, 1033, 1575, 1065), (1527, 1046, 1559, 1076), (1507, 1196, 1537, 1228), (1486, 1033, 1516, 1065), (1529, 1155, 1560, 1185), (1576, 993, 1608, 1023), (1504, 1042, 1534, 1074), (1559, 1021, 1589, 1053), (1518, 1122, 1548, 1154), (1534, 1131, 1564, 1162), (1532, 1100, 1562, 1132), (1566, 1384, 1596, 1415), (1502, 1016, 1534, 1046), (1479, 1019, 1509, 1051), (1548, 970, 1580, 1000), (1562, 1332, 1594, 1362), (1778, 1196, 1808, 1228), (1557, 982, 1589, 1012), (1495, 1031, 1527, 1062), (1633, 1083, 1663, 1115), (1718, 1281, 1750, 1311), (1598, 1279, 1628, 1311), (1739, 1233, 1771, 1263), (1546, 1389, 1576, 1421), (1599, 1115, 1629, 1146), (1700, 1072, 1730, 1104), (1592, 1230, 1624, 1260), (1628, 1249, 1660, 1279), (1771, 1253, 1801, 1284), (1550, 1240, 1580, 1272), (1720, 1169, 1750, 1201), (1516, 1421, 1546, 1453), (1499, 1161, 1529, 1192), (1615, 1329, 1647, 1359), (1608, 1037, 1640, 1067), (1516, 1069, 1548, 1099), (1495, 1329, 1527, 1359), (1723, 1203, 1753, 1235), (1546, 1122, 1578, 1152), (1665, 1067, 1695, 1099), (1537, 1095, 1569, 1125), (1516, 1196, 1548, 1226), (1573, 1334, 1605, 1364), (1541, 1024, 1571, 1056), (1539, 1318, 1571, 1348), (1714, 1205, 1744, 1237), (1644, 984, 1674, 1016), (1744, 1247, 1775, 1279), (1665, 1276, 1695, 1307), (1483, 1164, 1513, 1196), (1709, 1417, 1741, 1447), (1550, 1017, 1582, 1047), (1527, 1286, 1559, 1316), (1635, 989, 1665, 1021), (1527, 1422, 1559, 1453), (1468, 1035, 1500, 1065), (1460, 1288, 1490, 1320), (1458, 1403, 1490, 1433), (1672, 1040, 1702, 1072), (1504, 1053, 1536, 1083), (1445, 1591, 1476, 1622), (1518, 1497, 1550, 1527), (1605, 1514, 1635, 1546), (1622, 1548, 1654, 1578), (1509, 1829, 1541, 1859), (1564, 1467, 1594, 1499), (1479, 1683, 1509, 1714), (1490, 1868, 1520, 1900), (1552, 1863, 1583, 1893), (1612, 1559, 1644, 1589), (1603, 1453, 1635, 1483), (1520, 1828, 1550, 1859), (1444, 1580, 1474, 1612), (1698, 1522, 1729, 1553), (1569, 1449, 1601, 1479), (1587, 1852, 1617, 1884), (1647, 1559, 1677, 1591), (1591, 1490, 1622, 1520), (1668, 1856, 1698, 1888), (1442, 1601, 1472, 1633), (1564, 1645, 1594, 1677), (1806, 1564, 1838, 1594), (1541, 1628, 1573, 1658), (1585, 1736, 1615, 1767), (1522, 1578, 1553, 1608), (1743, 1468, 1773, 1500), (1493, 1596, 1525, 1626), (1718, 1504, 1750, 1534), (1520, 1624, 1552, 1654), (1628, 1783, 1658, 1815), (1753, 1783, 1785, 1813), (1453, 1548, 1483, 1580), (1589, 1576, 1619, 1608), (1488, 1789, 1518, 1821), (1437, 1557, 1468, 1587), (1704, 1449, 1736, 1479), (1594, 1891, 1624, 1923), (1610, 1463, 1642, 1493), (1610, 1852, 1642, 1882), (1504, 1840, 1534, 1872), (1497, 1658, 1529, 1688), (1536, 1569, 1566, 1601), (1652, 1759, 1683, 1790), (1458, 1529, 1490, 1559), (1603, 1760, 1633, 1792), (1537, 1470, 1569, 1500), (1801, 1773, 1831, 1805), (1718, 1514, 1750, 1545), (1697, 1845, 1729, 1875), (1583, 1813, 1615, 1844), (1486, 1852, 1518, 1882), (1447, 1863, 1477, 1895), (1633, 1552, 1663, 1583), (1529, 1553, 1559, 1585), (1743, 1826, 1773, 1858), (1601, 1725, 1633, 1755), (1467, 1465, 1499, 1495), (1495, 1844, 1525, 1875), (1536, 1845, 1566, 1877), (1522, 1801, 1552, 1833), (1509, 1813, 1541, 1844), (1520, 1815, 1550, 1847), (1507, 1458, 1537, 1490), (1536, 1859, 1566, 1891), (1711, 1822, 1741, 1854), (1798, 1562, 1829, 1592), (1476, 1580, 1507, 1610), (1532, 1477, 1562, 1509), (1645, 1718, 1677, 1748), (1642, 1552, 1674, 1582), (1454, 1447, 1486, 1477), (1506, 1805, 1536, 1836), (1520, 1456, 1552, 1486), (425, 361, 455, 391), (363, 591, 393, 621), (299, 481, 329, 511), (679, 453, 709, 483), (671, 274, 701, 304), (633, 308, 663, 338), (612, 322, 642, 352), (870, 218, 901, 248), (885, 196, 915, 226), (637, 264, 667, 294), (793, 48, 823, 78), (639, 301, 669, 331), (695, 253, 725, 283), (533, 280, 563, 310), (607, 212, 637, 242), (835, 265, 865, 295), (644, 294, 674, 324), (554, 196, 584, 226), (665, 209, 695, 239), (793, 58, 823, 88), (771, 334, 801, 364), (892, 294, 922, 324), (598, 656, 628, 686), (803, 773, 833, 803), (941, 504, 971, 534), (563, 916, 593, 947), (752, 525, 782, 556), (632, 632, 662, 662), (499, 690, 529, 720), (610, 936, 640, 966), (807, 709, 837, 740), (522, 481, 552, 511), (534, 849, 564, 879), (561, 870, 591, 901), (552, 886, 582, 916), (927, 1037, 957, 1067), (722, 1412, 752, 1442), (883, 1108, 913, 1138), (510, 1244, 540, 1274), (596, 1138, 626, 1168), (612, 1253, 642, 1283), (517, 1157, 547, 1187), (911, 1690, 941, 1720), (1318, 338, 1348, 368), (1169, 25, 1200, 55), (1334, 349, 1364, 379), (1361, 111, 1391, 142), (1417, 403, 1447, 433), (1362, 237, 1392, 267), (1313, 65, 1343, 96), (961, 12, 991, 42), (1120, 209, 1150, 239), (1106, 147, 1136, 177), (1146, 255, 1177, 285), (1023, 315, 1053, 345), (1122, 30, 1152, 60), (1415, 65, 1445, 96), (1173, 368, 1203, 398), (1334, 184, 1364, 214), (1401, 375, 1431, 405), (1325, 343, 1355, 373), (1403, 129, 1433, 159), (1336, 133, 1366, 163), (1283, 170, 1313, 200), (1062, 249, 1092, 280), (1302, 464, 1332, 494), (1136, 432, 1166, 462), (1304, 249, 1334, 280), (1223, 41, 1253, 71), (1353, 104, 1384, 134), (1300, 87, 1330, 117), (1325, 757, 1355, 787), (970, 920, 1000, 950), (1145, 747, 1175, 777), (1247, 750, 1277, 780), (1350, 665, 1380, 695), (1405, 511, 1435, 541), (1169, 510, 1200, 540), (1336, 918, 1366, 948), (1368, 943, 1398, 973), (994, 510, 1024, 540), (1118, 844, 1148, 874), (1371, 759, 1401, 789), (1177, 890, 1207, 920), (1352, 814, 1382, 844), (1403, 626, 1433, 656), (1182, 835, 1212, 865), (1313, 924, 1343, 954), (1270, 724, 1300, 754), (1200, 731, 1230, 761), (1077, 881, 1108, 911), (1148, 757, 1178, 787), (1235, 1180, 1265, 1210), (1398, 1279, 1428, 1309), (1173, 970, 1203, 1000), (1069, 1302, 1099, 1332), (1399, 1341, 1430, 1371), (1118, 1003, 1148, 1033), (1410, 1401, 1440, 1431), (1405, 1297, 1435, 1327), (1039, 1136, 1069, 1166), (1092, 1371, 1122, 1401), (1401, 1380, 1431, 1410), (1343, 1288, 1373, 1318), (1093, 1329, 1123, 1359), (1350, 1346, 1380, 1376), (1046, 1224, 1076, 1254), (1421, 1228, 1451, 1258), (1378, 1224, 1408, 1254), (1405, 1079, 1435, 1109), (1069, 1136, 1099, 1166), (970, 1159, 1000, 1189), (1053, 1290, 1083, 1320), (1352, 1093, 1382, 1123), (993, 1242, 1023, 1272), (1323, 1017, 1353, 1047), (1412, 1362, 1442, 1392), (1288, 1297, 1318, 1327), (1309, 1076, 1339, 1106), (1169, 1675, 1200, 1706), (1384, 1476, 1414, 1506), (1380, 1783, 1410, 1813), (1150, 1645, 1180, 1675), (1361, 1610, 1391, 1640), (1180, 1465, 1210, 1495), (1175, 1585, 1205, 1615), (1284, 1483, 1315, 1513), (1235, 1591, 1265, 1621), (1244, 1691, 1274, 1721), (1306, 1656, 1336, 1686), (1284, 1541, 1315, 1571), (1327, 1734, 1357, 1764), (1260, 1460, 1290, 1490), (1292, 1690, 1322, 1720), (1323, 1700, 1353, 1730), (1408, 1529, 1438, 1559), (1185, 1674, 1215, 1704), (1192, 1725, 1223, 1755), (980, 1543, 1010, 1573), (1415, 1484, 1445, 1514), (1175, 1870, 1205, 1900), (1339, 1686, 1369, 1716), (1325, 1644, 1355, 1674), (1320, 1831, 1350, 1861), (1359, 1748, 1389, 1778), (1422, 1672, 1453, 1702), (1396, 1898, 1426, 1928), (1169, 1467, 1200, 1497), (1422, 1476, 1453, 1506), (1322, 1739, 1352, 1769), (1249, 1835, 1279, 1865), (1309, 1550, 1339, 1580), (1302, 1792, 1332, 1822), (1479, 219, 1509, 249), (1497, 347, 1527, 377), (1541, 179, 1571, 209), (1651, 248, 1681, 278), (1626, 274, 1656, 304), (1610, 249, 1640, 280), (1534, 175, 1564, 205), (1520, 136, 1550, 166), (1615, 932, 1645, 962), (1683, 497, 1713, 527), (1610, 909, 1640, 939), (1476, 609, 1506, 639), (1477, 766, 1507, 796), (1541, 740, 1571, 770), (1458, 545, 1488, 575), (1580, 899, 1610, 929), (1477, 510, 1507, 540), (1564, 902, 1594, 932), (1442, 844, 1472, 874), (1571, 892, 1601, 922), (1440, 564, 1470, 594), (1437, 554, 1467, 584), (1578, 909, 1608, 939), (1465, 481, 1495, 511), (1467, 881, 1497, 911), (1739, 1263, 1769, 1293), (1727, 1263, 1757, 1293), (1752, 1223, 1782, 1253), (1557, 1327, 1587, 1357), (1633, 1134, 1663, 1164), (1589, 1150, 1619, 1180), (1720, 1076, 1750, 1106), (1612, 1065, 1642, 1095), (1552, 1113, 1582, 1143), (1614, 1253, 1644, 1283), (1633, 1210, 1663, 1240), (1545, 1088, 1575, 1118), (1683, 1283, 1713, 1313), (1553, 1318, 1583, 1348), (1445, 1376, 1476, 1407), (1548, 1223, 1578, 1253), (1617, 1373, 1647, 1403), (1644, 1212, 1674, 1242), (1534, 1200, 1564, 1230), (1545, 994, 1575, 1024), (1552, 1249, 1582, 1279), (1582, 1125, 1612, 1155), (1667, 1265, 1697, 1295), (1645, 1173, 1675, 1203), (1497, 1127, 1527, 1157), (1582, 1010, 1612, 1040), (1522, 1263, 1552, 1293), (1780, 1240, 1810, 1270), (1652, 1051, 1683, 1081), (1504, 1028, 1534, 1058), (1532, 1039, 1562, 1069), (1585, 1053, 1615, 1083), (1594, 975, 1624, 1005), (1635, 1017, 1665, 1047), (1511, 1132, 1541, 1162), (1518, 1346, 1548, 1376), (1491, 1348, 1522, 1378), (1555, 1180, 1585, 1210), (1516, 1323, 1546, 1353), (1537, 1014, 1568, 1044), (1562, 1422, 1592, 1453), (1504, 1208, 1534, 1238), (1541, 1129, 1571, 1159), (1514, 1159, 1545, 1189), (1536, 987, 1566, 1017), (1445, 966, 1476, 996), (1647, 1300, 1677, 1330), (1679, 1200, 1709, 1230), (1767, 1789, 1798, 1819), (1594, 1845, 1624, 1875), (1739, 1817, 1769, 1847), (1456, 1608, 1486, 1638), (1637, 1474, 1667, 1504), (1651, 1479, 1681, 1509), (1447, 1539, 1477, 1569), (1767, 1819, 1798, 1849), (1493, 1822, 1523, 1852), (1599, 1775, 1629, 1805), (1454, 1461, 1484, 1491), (1527, 1594, 1557, 1624), (1525, 1614, 1555, 1644), (1739, 1481, 1769, 1511), (1665, 1732, 1695, 1762), (1477, 1467, 1507, 1497), (1594, 1500, 1624, 1530), (1621, 1493, 1651, 1523), (1670, 1702, 1700, 1732), (1596, 1879, 1626, 1909), (846, 1902, 878, 1930), (1083, 163, 1111, 195), (1072, 207, 1100, 239), (1037, 685, 1069, 713), (1419, 1244, 1447, 1276), (1093, 1295, 1122, 1327), (1371, 1787, 1403, 1815), (1451, 853, 1479, 885), (1766, 1240, 1798, 1269), (1640, 971, 1668, 1003), (1437, 1230, 1465, 1261), (1787, 1759, 1815, 1790), (1810, 1545, 1842, 1573), (1437, 1718, 1465, 1750), (1440, 1509, 1468, 1541), (688, 303, 717, 333), (621, 327, 651, 356), (839, 299, 867, 329), (642, 177, 671, 207), (589, 816, 617, 846), (1376, 370, 1405, 400), (1178, 127, 1208, 156), (1408, 587, 1437, 617), (1399, 1230, 1430, 1258), (1368, 1010, 1398, 1039), (1419, 1518, 1447, 1548), (1711, 579, 1741, 607), (1437, 674, 1465, 704), (1451, 1334, 1479, 1364), (1730, 1272, 1759, 1302), (1525, 1083, 1555, 1111), (1545, 1867, 1573, 1897)
inflammatory: (1422, 1421, 1453, 1453), (1568, 1895, 1598, 1927), (1732, 1228, 1762, 1258), (1543, 1449, 1573, 1479)
lymphocyte: (876, 202, 908, 234), (959, 90, 991, 122), (1391, 1767, 1422, 1799), (1391, 1845, 1422, 1877), (1256, 1888, 1288, 1920), (1467, 5, 1499, 37), (1523, 209, 1555, 241), (1467, 425, 1499, 456), (1516, 205, 1548, 237), (1633, 897, 1665, 929), (1495, 571, 1527, 603), (1691, 488, 1723, 520), (1790, 1246, 1822, 1277), (1442, 1256, 1474, 1288), (1836, 1371, 1868, 1403), (1649, 1106, 1681, 1138), (1752, 1293, 1783, 1325), (1679, 1332, 1711, 1364), (1573, 1173, 1605, 1205), (1757, 1284, 1789, 1316), (1688, 1325, 1720, 1357), (1633, 1329, 1665, 1361), (1656, 1189, 1688, 1221), (1530, 1454, 1562, 1486), (1654, 1566, 1686, 1598), (1670, 1752, 1702, 1783), (1679, 1463, 1711, 1495), (1545, 1598, 1576, 1629), (1652, 1888, 1684, 1920), (1794, 1794, 1826, 1826), (1810, 1769, 1842, 1801), (1591, 1900, 1622, 1932), (623, 464, 653, 495), (1201, 92, 1231, 124), (1168, 87, 1200, 117), (1419, 1369, 1449, 1401), (1380, 1872, 1410, 1904), (1484, 163, 1514, 195), (1461, 464, 1491, 495), (1583, 248, 1614, 280), (1601, 925, 1633, 955), (1569, 909, 1599, 941), (1546, 602, 1576, 633), (1514, 626, 1546, 656), (1672, 536, 1702, 568), (1704, 943, 1736, 973), (1449, 1307, 1479, 1339), (1490, 1100, 1520, 1132), (1695, 1247, 1725, 1279), (1633, 1348, 1663, 1380), (1656, 1281, 1688, 1311), (1573, 1154, 1603, 1185), (1684, 1192, 1716, 1223), (1463, 1412, 1495, 1442), (1730, 1212, 1762, 1242), (1649, 1116, 1679, 1148), (1882, 1283, 1913, 1315), (1697, 1419, 1729, 1449), (1495, 1095, 1527, 1125), (1718, 1189, 1748, 1221), (1697, 1320, 1727, 1352), (1550, 987, 1582, 1017), (1759, 1242, 1789, 1274), (1453, 1412, 1484, 1442), (1568, 989, 1598, 1021), (1603, 1548, 1633, 1580), (1642, 1578, 1672, 1610), (1601, 1812, 1633, 1842), (1691, 1730, 1723, 1760), (1447, 1902, 1479, 1932), (1729, 1476, 1759, 1507), (1644, 1891, 1674, 1923), (1833, 1536, 1863, 1568), (1828, 1822, 1859, 1852), (1237, 143, 1267, 173), (1389, 1776, 1419, 1806), (1361, 1902, 1391, 1932), (1500, 237, 1530, 267), (1509, 202, 1539, 232), (1621, 267, 1651, 297), (1681, 426, 1711, 456), (1688, 534, 1718, 564), (1518, 617, 1548, 648), (1833, 1274, 1863, 1304), (1596, 1407, 1626, 1437), (1704, 1297, 1734, 1327), (1867, 1208, 1897, 1238), (1596, 1396, 1626, 1426), (1821, 1263, 1851, 1293), (1626, 1387, 1656, 1417), (1530, 1322, 1560, 1352), (1801, 1292, 1831, 1322), (1787, 1269, 1817, 1299), (1683, 1453, 1713, 1483), (1552, 1447, 1582, 1477), (1603, 1615, 1633, 1645), (1757, 1445, 1787, 1476), (1805, 1801, 1835, 1831), (1587, 663, 1615, 695), (1684, 264, 1714, 292), (1518, 1336, 1548, 1364), (1493, 1833, 1522, 1863)
